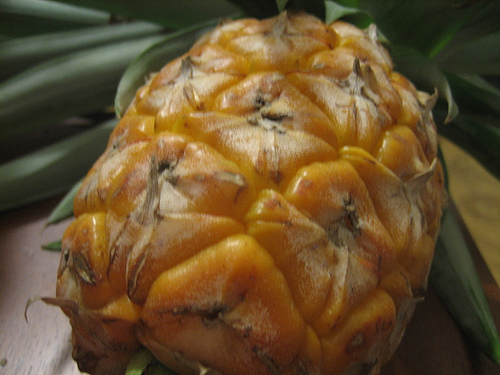pineapple: (50, 1, 446, 373)
